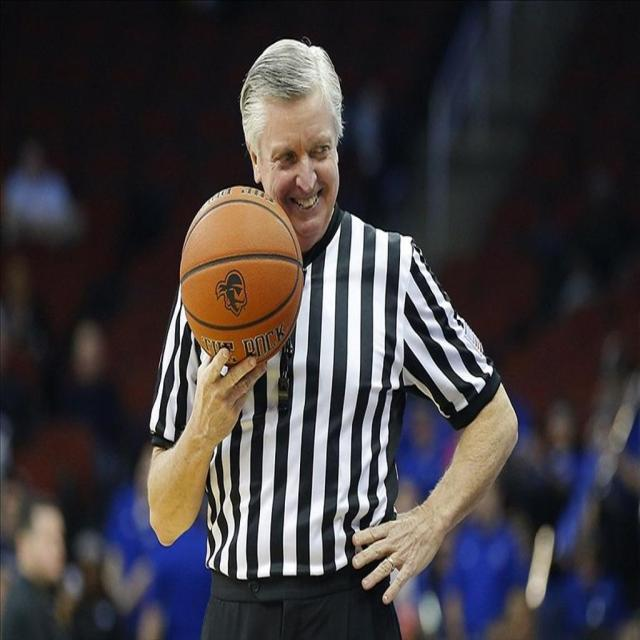Face: (251, 67, 353, 240)
